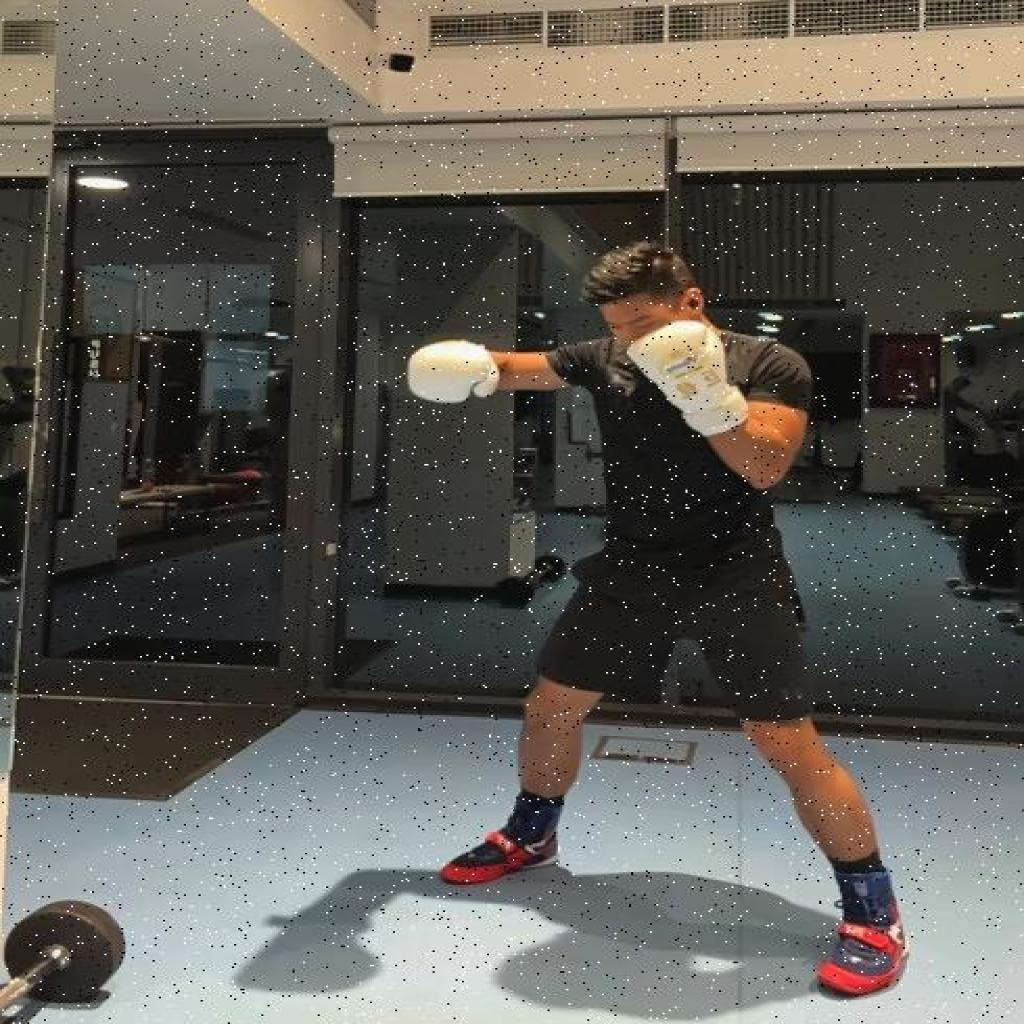hook: (404, 238, 914, 1004)
